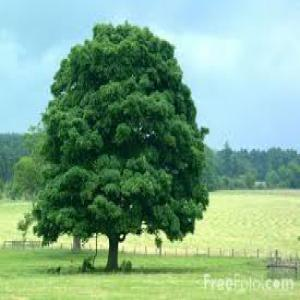Tree: (32, 20, 212, 272)
